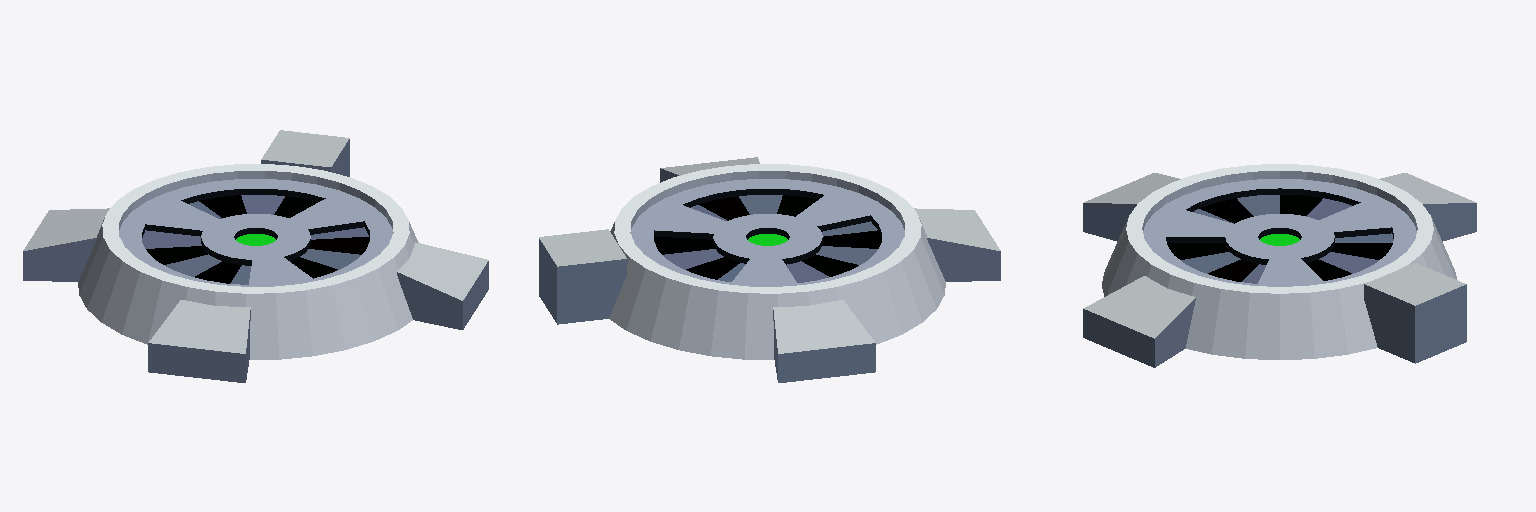
3 views of the same model, side by side, from view 1: azimuth 30°, elevation 25°; view 2: azimuth 150°, elevation 25°; view 3: azimuth 270°, elevation 25° (orthographic).
Parts seen in each view (by area): view 1: Plataforma_Superior3_Cube.008; view 2: Plataforma_Superior3_Cube.008; view 3: Plataforma_Superior3_Cube.008.
Part boxes in pixels (left/top/right/bottom): Plataforma_Superior3_Cube.008: left=23, top=130, right=488, bottom=382; Plataforma_Superior3_Cube.008: left=539, top=157, right=1000, bottom=382; Plataforma_Superior3_Cube.008: left=1083, top=164, right=1476, bottom=367.
Size of the model in its own units: 21.35 by 3.47 by 21.35.
Materials: 9 (8 with a texture image).